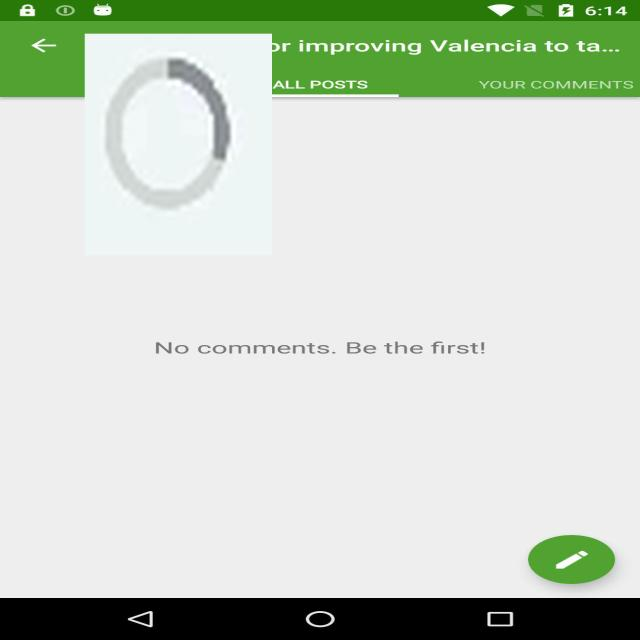misdirection: (85, 34, 272, 255)
